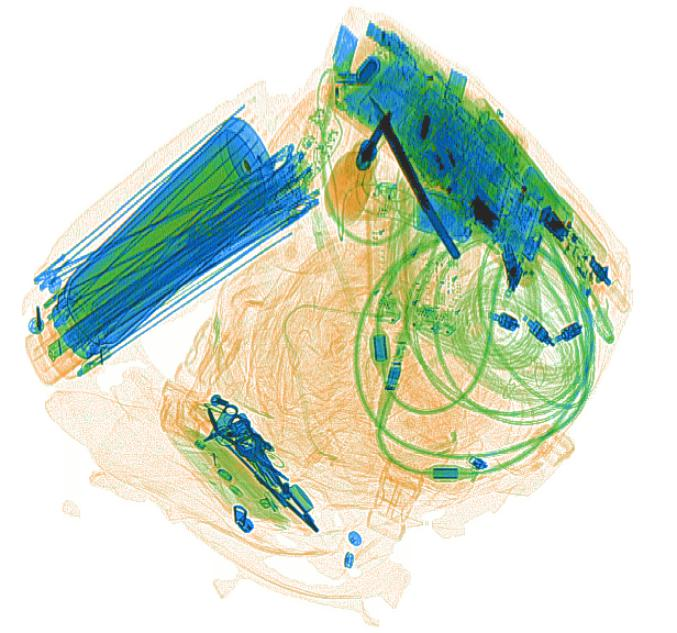battery: (518, 159, 574, 229), (411, 186, 475, 243), (478, 117, 529, 174)
